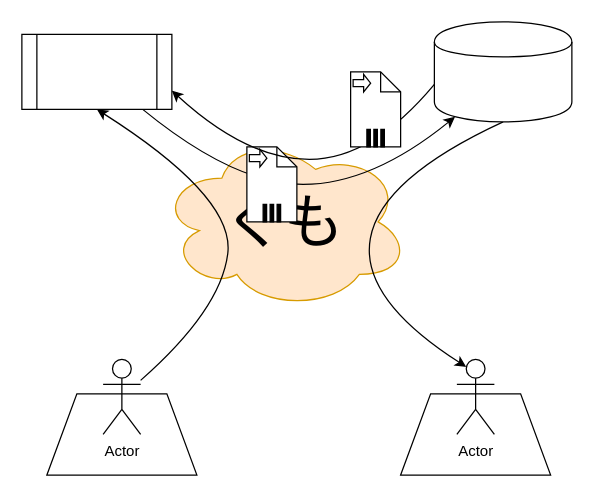
This 594x498 diagram has some shape labels left out. Here are the shapes that lost their labels. From the top down, the centre of each, then its label:
(x=96, y=71): Draw.io
(x=502, y=71): GitLab
